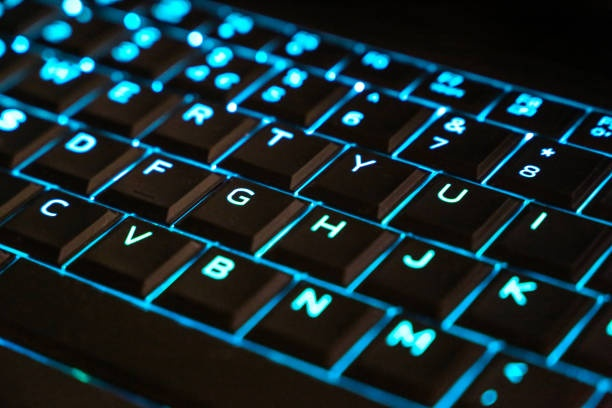keyboard: (4, 3, 612, 408)
